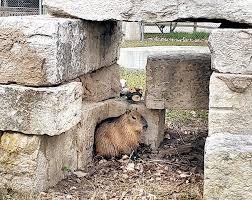capivara: (93, 107, 149, 163)
